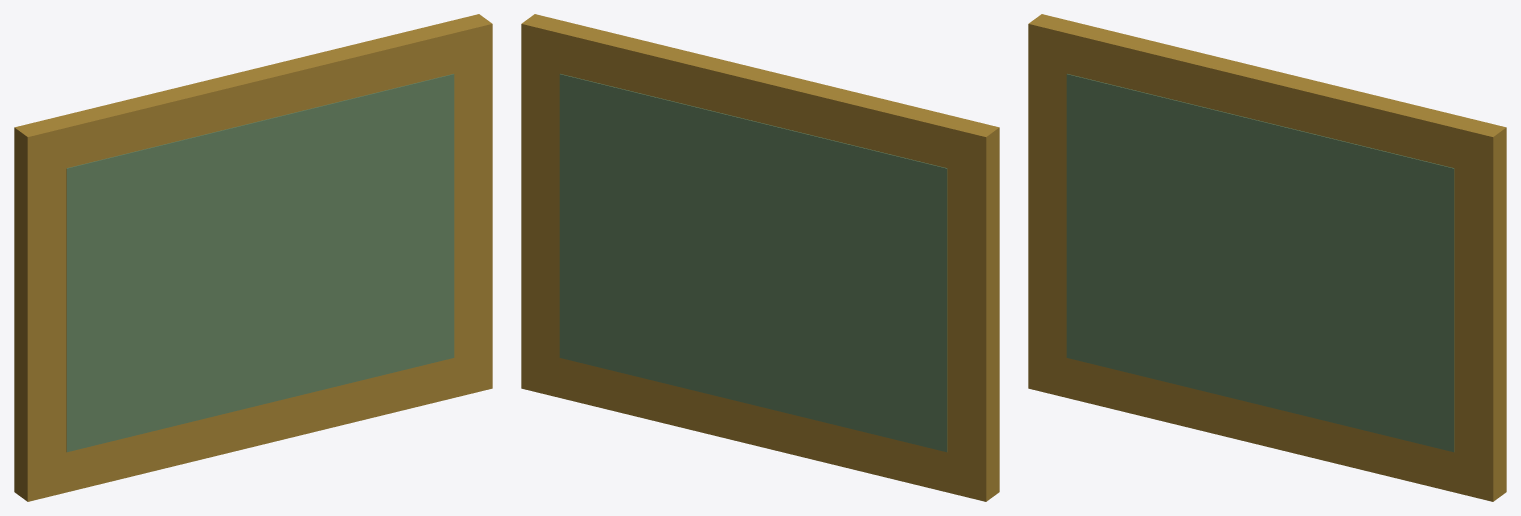
The model's file is picture.glb.
The picture shows the model from 3 angles, left to right: view 1: azimuth 30°, elevation 25°; view 2: azimuth 150°, elevation 25°; view 3: azimuth 330°, elevation 25°; orthographic projection.
Parts seen in each view (by area): view 1: picture; view 2: picture; view 3: picture.
Boxes of the visible parts, x1,y1,x2,y2 form: picture: [14, 14, 492, 501]; picture: [521, 14, 999, 501]; picture: [1028, 14, 1506, 501].
Bounding box in the file's own units: 0.6 × 0.45 × 0.032.
